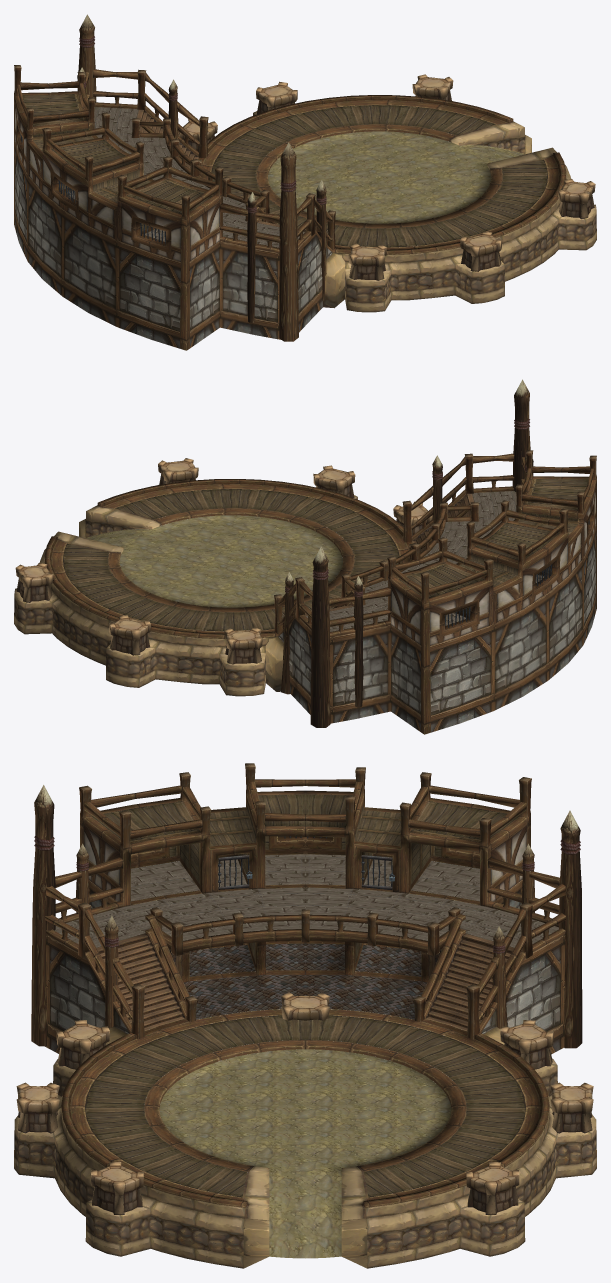
The model's file is Arena-Plata.glb.
3 views of the same model, one above another, from view 1: azimuth 30°, elevation 25°; view 2: azimuth 150°, elevation 25°; view 3: azimuth 270°, elevation 25° (orthographic). The views are drawn at different scales.
Visible parts, largest first — view 1: 6hu_garrison_petstable_v3; view 2: 6hu_garrison_petstable_v3; view 3: 6hu_garrison_petstable_v3.
Boxes of the visible parts, <box> form: 6hu_garrison_petstable_v3: <box>14,14,596,350</box>; 6hu_garrison_petstable_v3: <box>14,379,596,734</box>; 6hu_garrison_petstable_v3: <box>14,763,596,1268</box>.
Size of the model in its own units: 35.86 by 13.99 by 28.51.
Materials: 15 (15 with a texture image).
